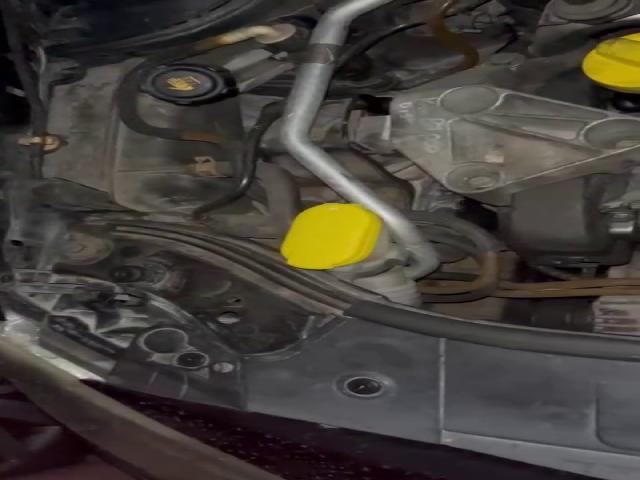antifreeze_tank: (44, 58, 243, 212)
